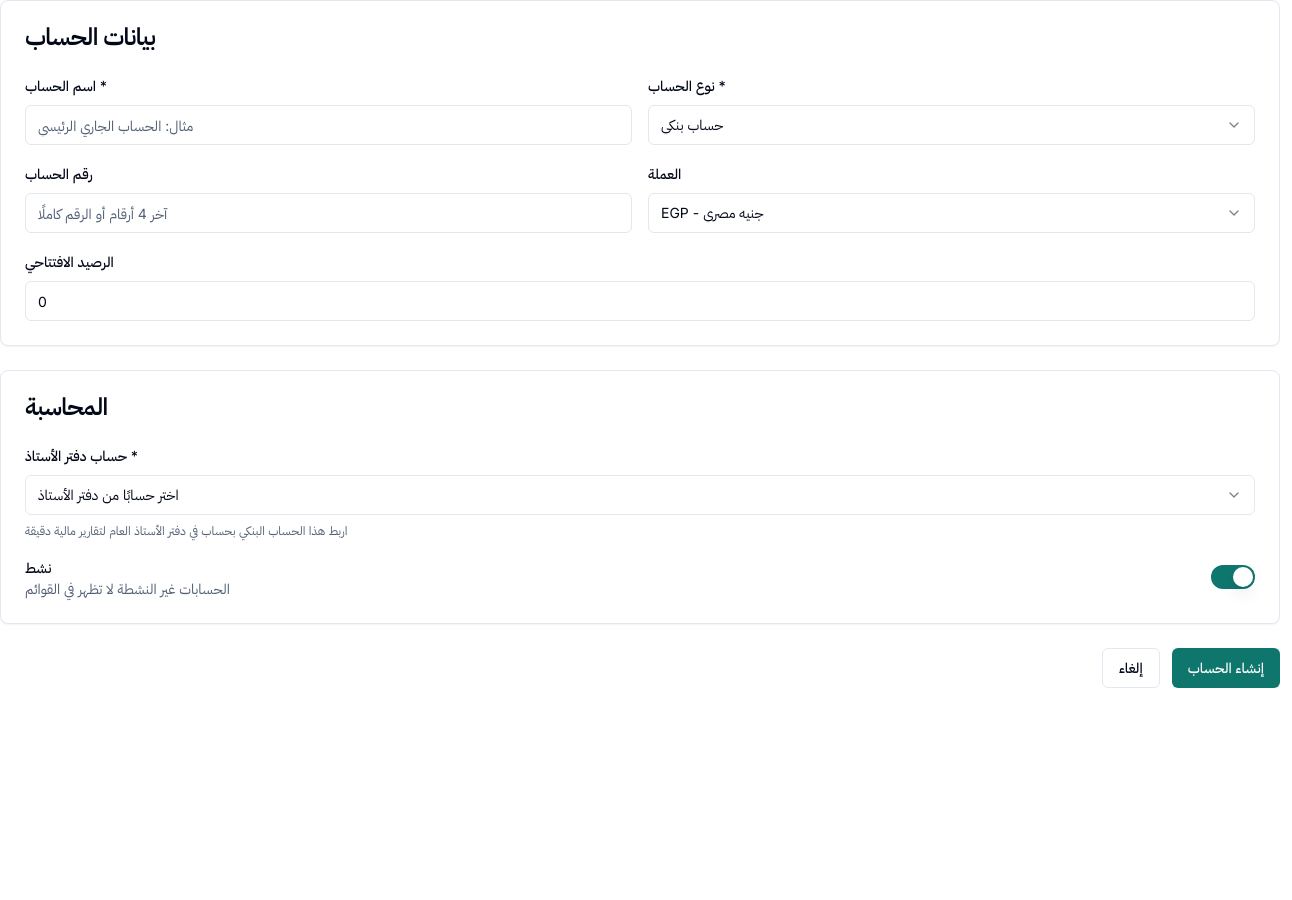
Test case: BankAccountForm › renders in Arabic and translates its validation messages
expect the heading "بيانات الحساب" is shown: met, box [25,22,155,51]
Click the button "إنشاء الحساب": (1226, 668) [1172,648,1280,688]
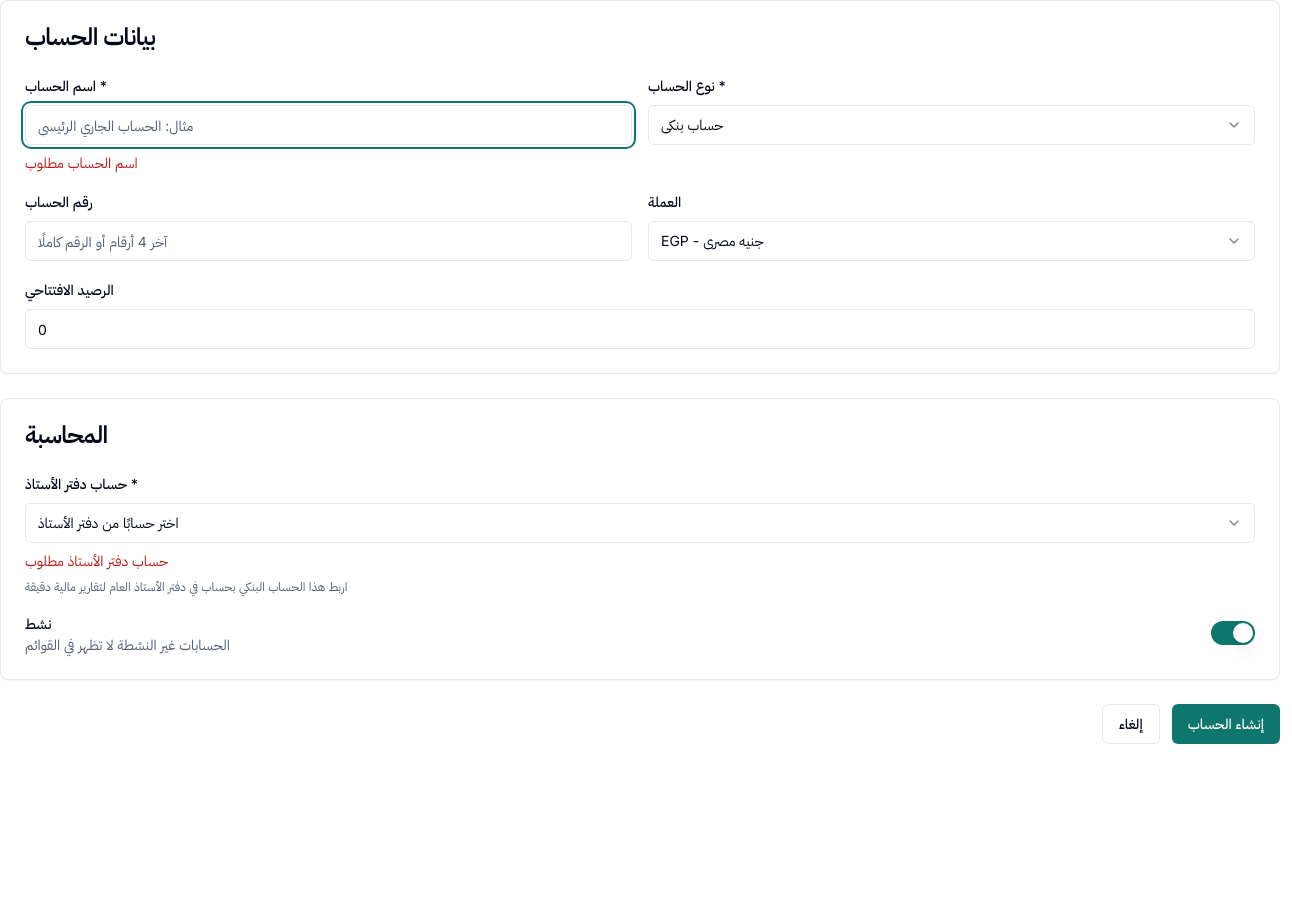
expect the text "اسم الحساب مطلوب" is shown: met, box [25,154,138,171]
expect the text "حساب دفتر الأستاذ مطلوب" is shown: met, box [25,552,168,569]
